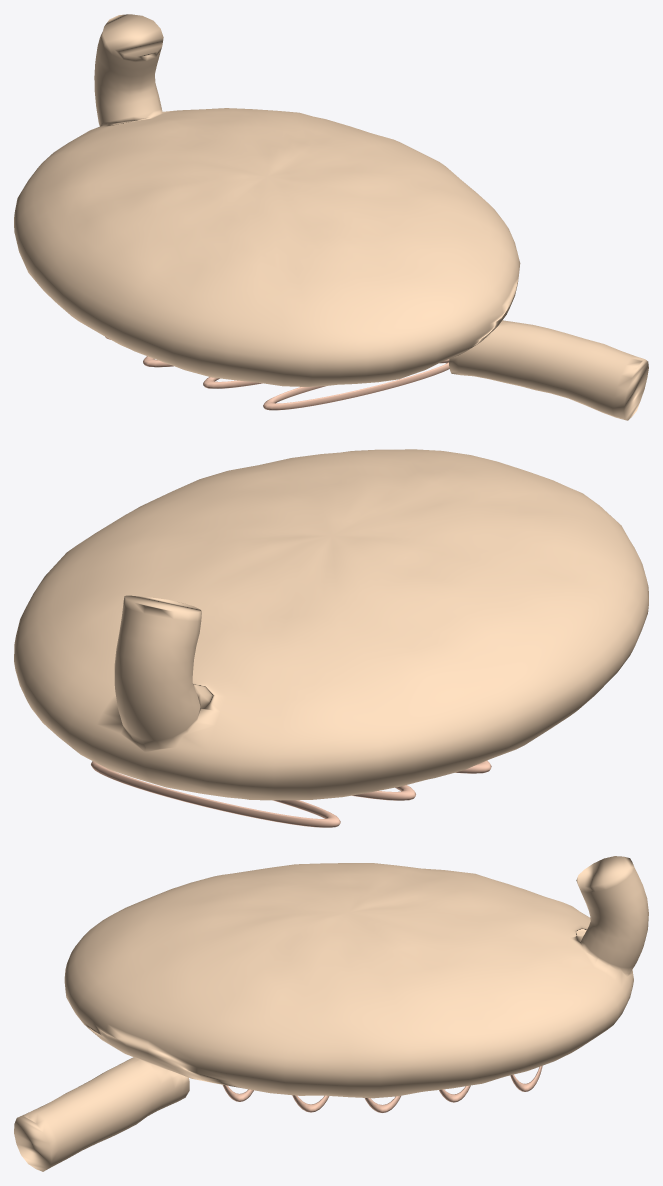
The model's file is stage_stomach.glb.
The picture shows the model from 3 angles, top to bottom: view 1: azimuth 30°, elevation 25°; view 2: azimuth 150°, elevation 25°; view 3: azimuth 270°, elevation 25°; orthographic projection. The views are drawn at different scales.
Visible parts, largest first — view 1: StomachRoom, NC_Rugae; view 2: StomachRoom, NC_Rugae; view 3: StomachRoom, NC_Rugae.
Boxes of the visible parts, x1=… form: StomachRoom: x1=14, y1=14, x2=648, y2=420; NC_Rugae: x1=105, y1=336, x2=449, y2=410; StomachRoom: x1=14, y1=449, x2=648, y2=800; NC_Rugae: x1=91, y1=760, x2=491, y2=827; StomachRoom: x1=14, y1=856, x2=648, y2=1171; NC_Rugae: x1=222, y1=1066, x2=542, y2=1112.
Bounding box in the file's own units: 63.08 × 31.33 × 84.52.
